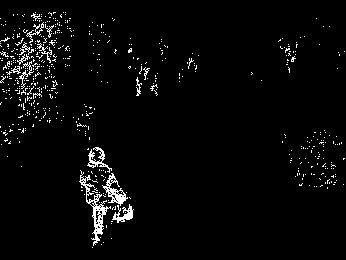person: (76, 145, 135, 249)
